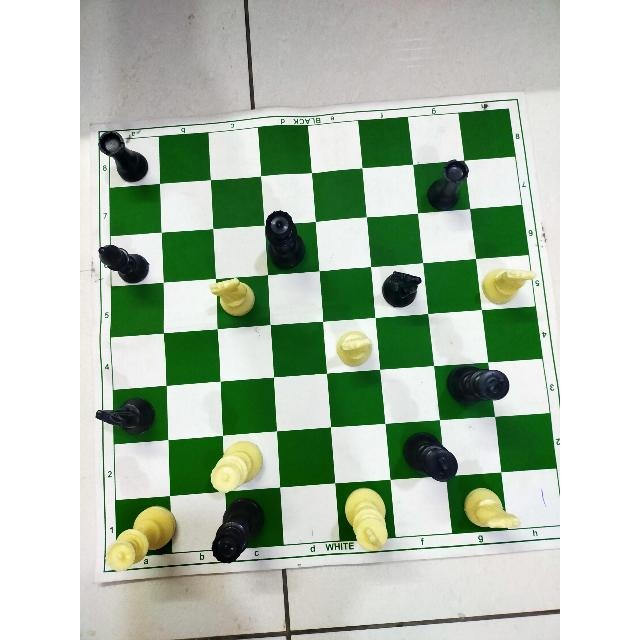black-bishop: (95, 243, 151, 283)
black-king: (403, 430, 459, 484), (444, 363, 511, 407)
black-knight: (93, 395, 157, 437), (380, 270, 422, 310)
black-queen: (209, 496, 267, 564), (264, 208, 308, 272)
black-rook: (97, 129, 149, 183), (426, 158, 470, 213)
white-king: (342, 487, 389, 553)
white-knight: (462, 486, 521, 531), (480, 266, 536, 306), (209, 274, 257, 318), (334, 329, 374, 367)
white-queen: (105, 503, 178, 573), (207, 438, 264, 494)
